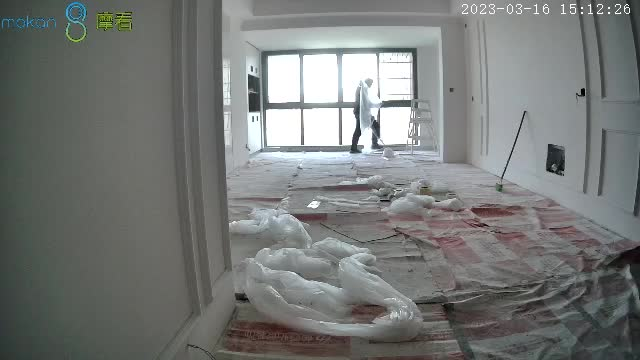people: (350, 77, 382, 152)
window: (261, 50, 416, 150)
